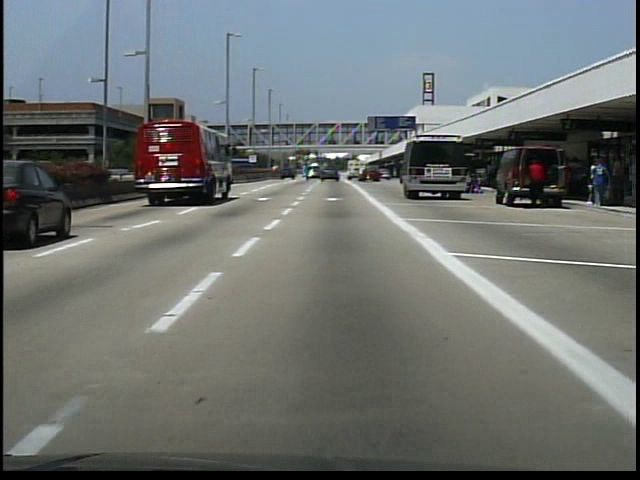person: (527, 154, 549, 211)
